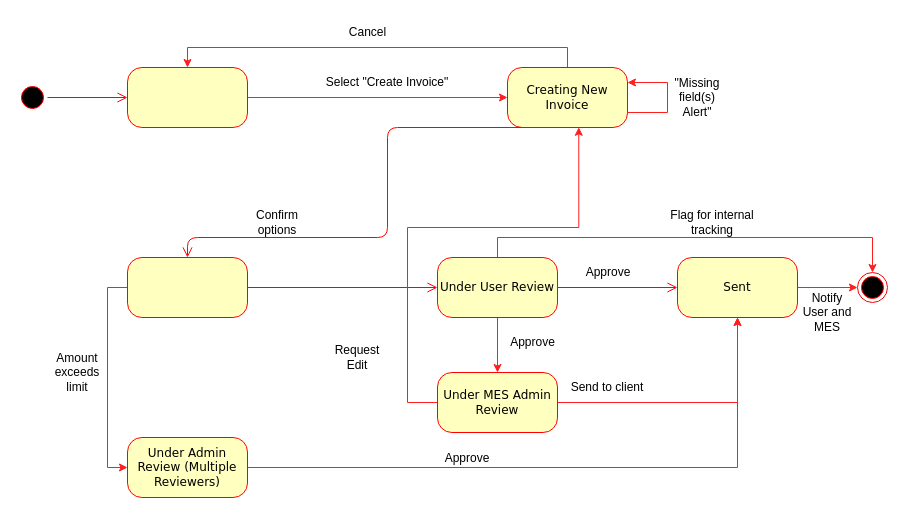
Image size: 905x515. Some labels were removed from this diagram. The shapes that lost their labels are listed below. From the top down, each one's box as (x1, y1, x2, y2) in pixels, then its label:
(126, 66, 248, 128): Landing/Home Page
(126, 256, 248, 318): Formatting Invoice
